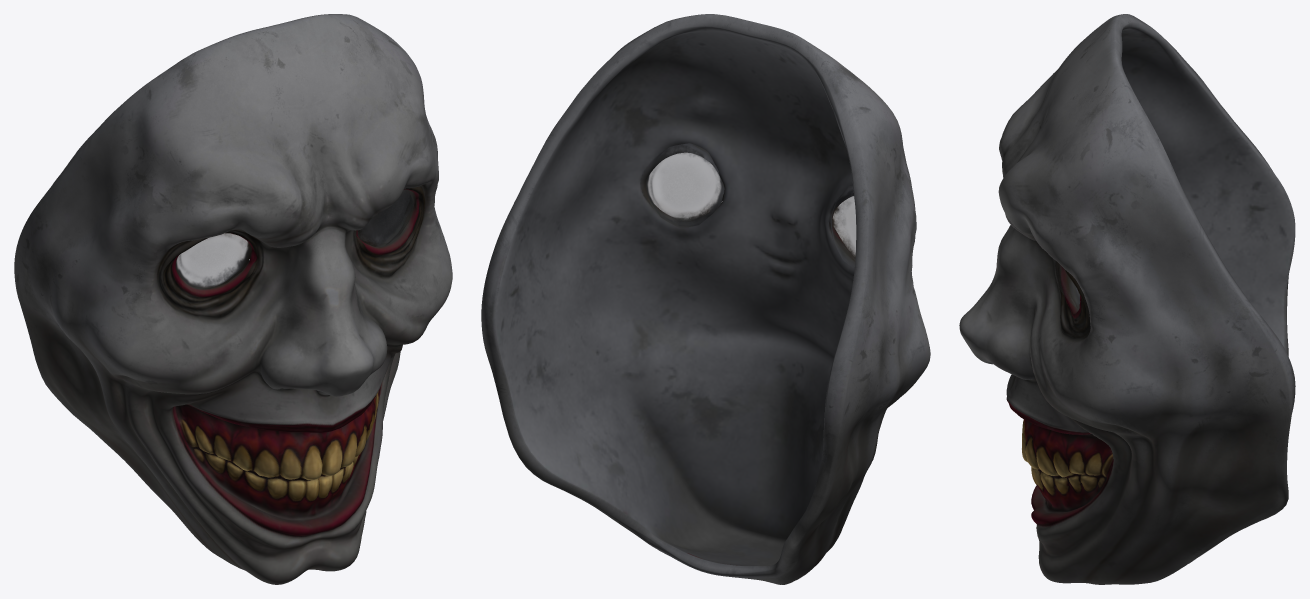
The model's file is horror_mask.glb.
The picture shows the model from 3 angles, left to right: view 1: azimuth 30°, elevation 25°; view 2: azimuth 150°, elevation 25°; view 3: azimuth 270°, elevation 25°; orthographic projection. The views are drawn at different scales.
Visible parts, largest first — view 1: lp_horrormask_mesh.001; view 2: lp_horrormask_mesh.001; view 3: lp_horrormask_mesh.001.
Part boxes in pixels (bbox=[...]): lp_horrormask_mesh.001: bbox=[14, 14, 452, 584]; lp_horrormask_mesh.001: bbox=[481, 14, 930, 584]; lp_horrormask_mesh.001: bbox=[959, 14, 1295, 584].
Bounding box in the file's own units: 0.1601 × 0.2221 × 0.1275.
Materials: 1 (1 with a texture image).
